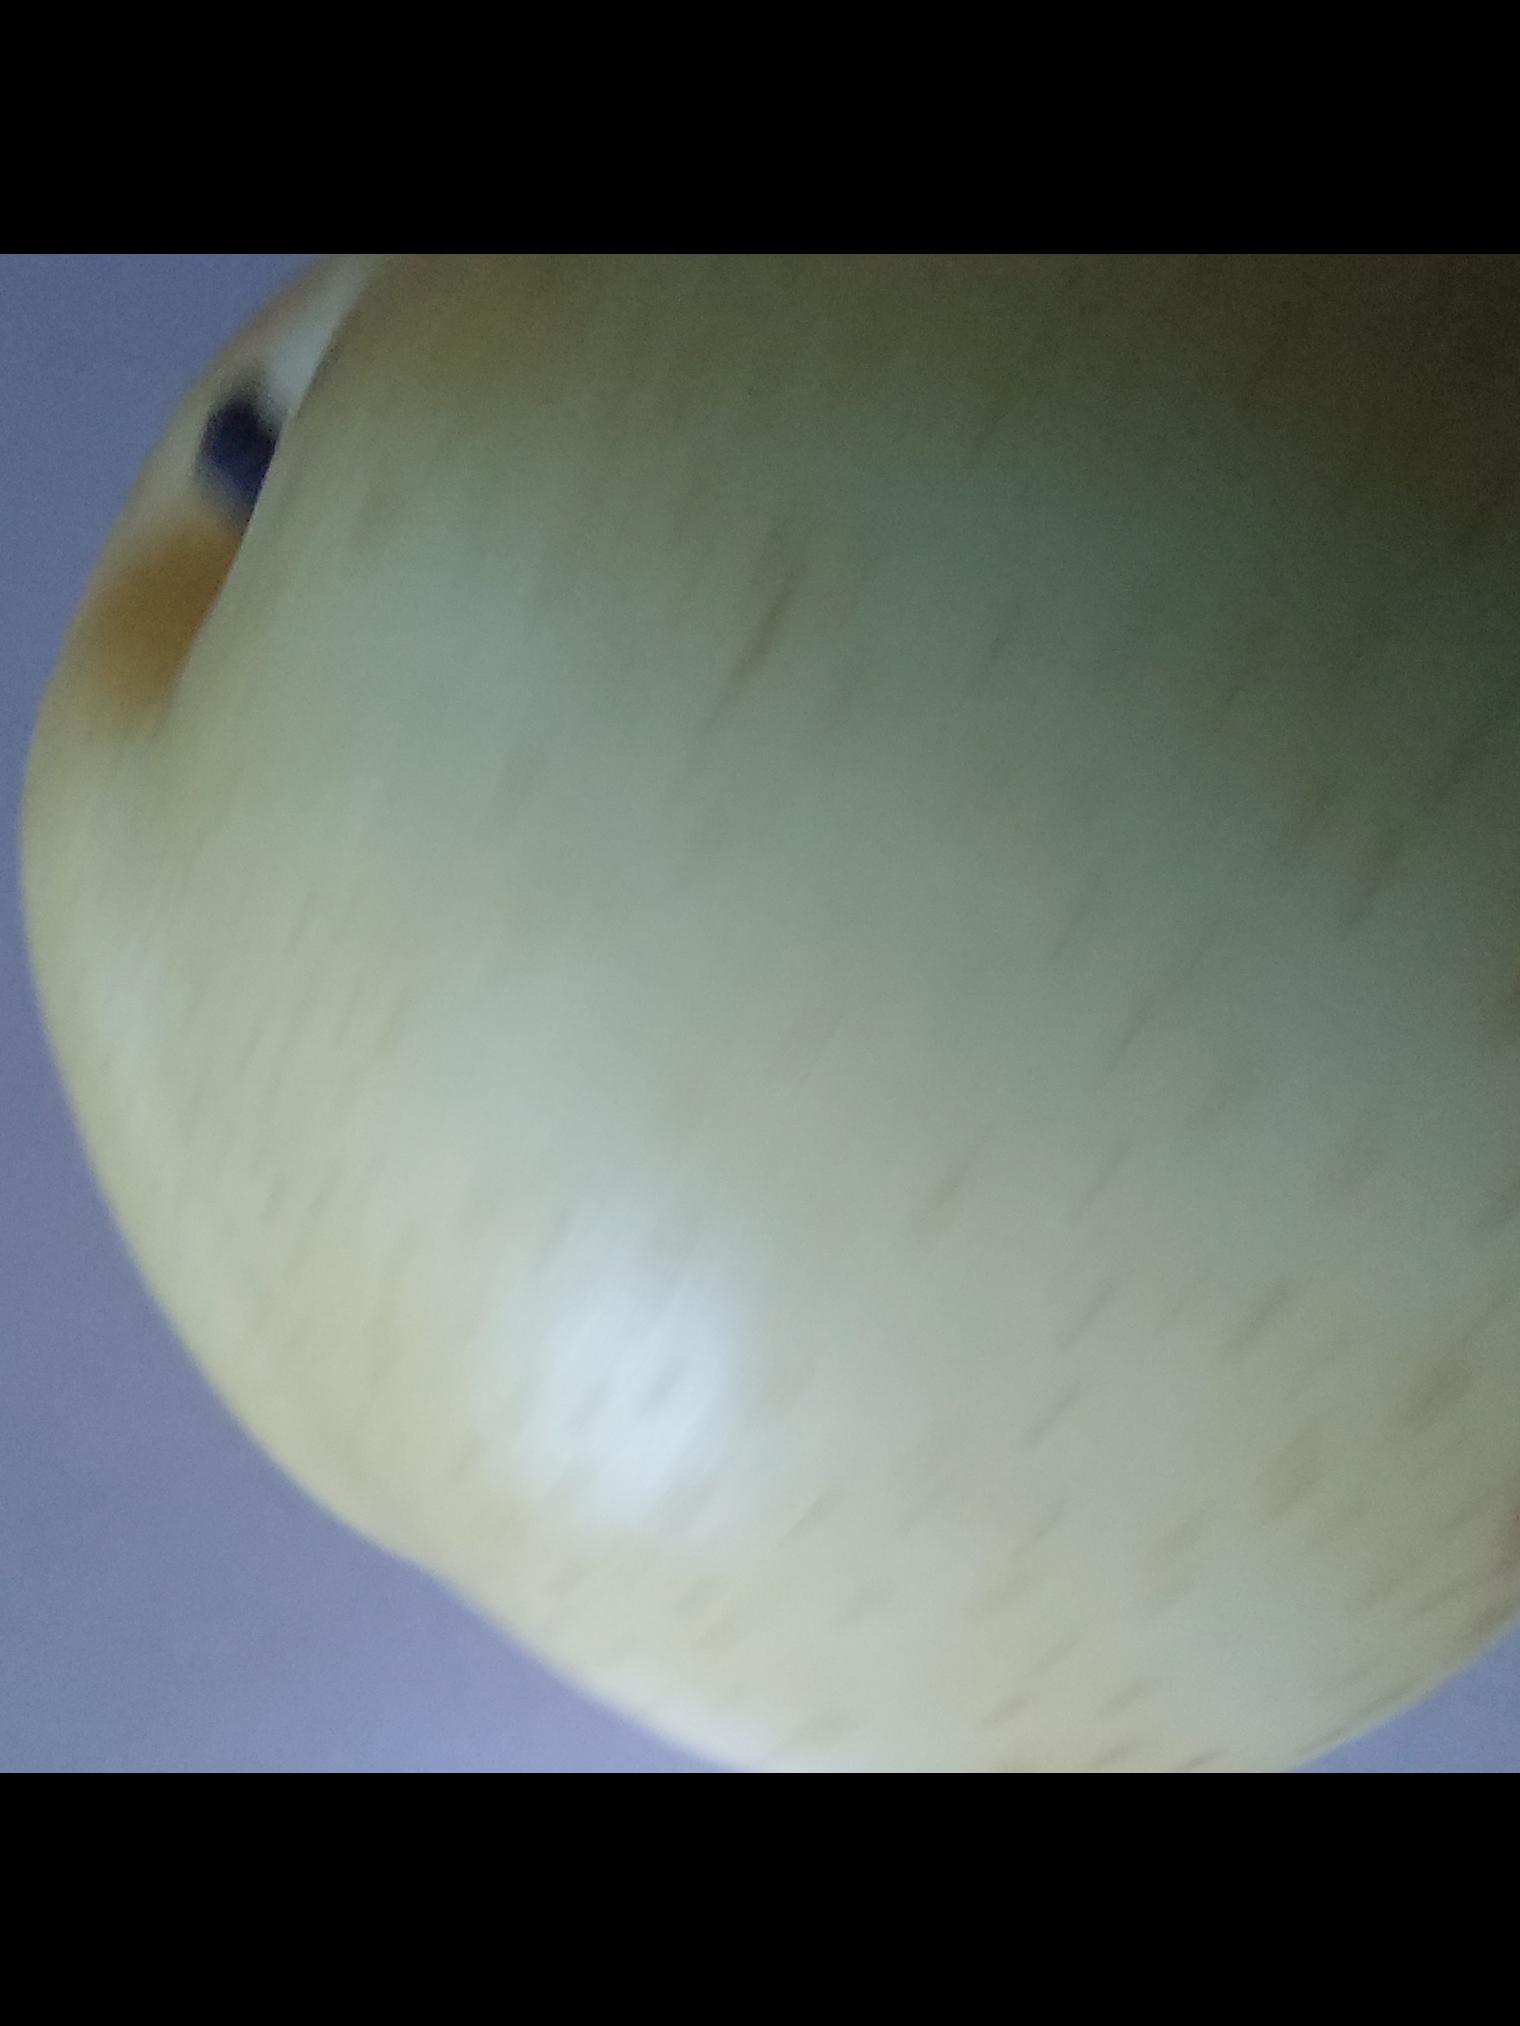Good Pear: (6, 252, 1520, 1774)
